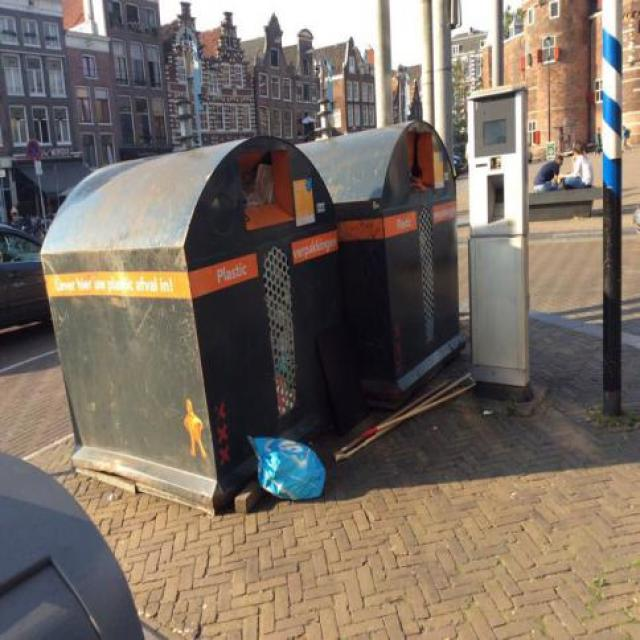Anorganik: (238, 425, 339, 507)
